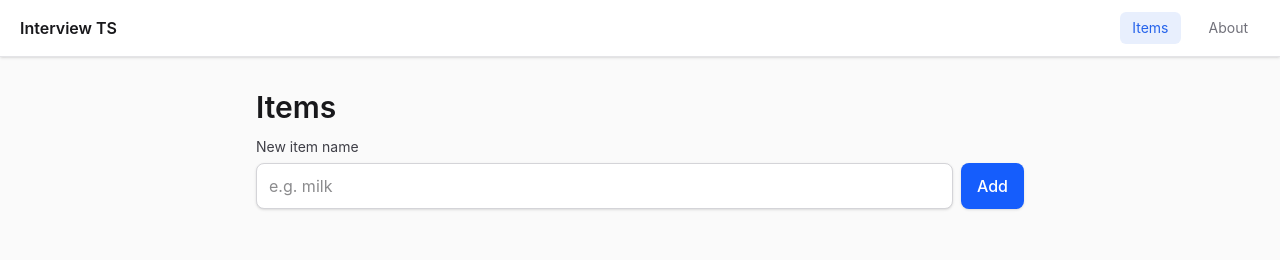
Test: <App /> › shows error on create failure
The width and height of the screenshot is (1280, 260).
Type "bread" into the field labelled "New item name".
click(604, 186); type("bread")  # box [256,163,953,209]
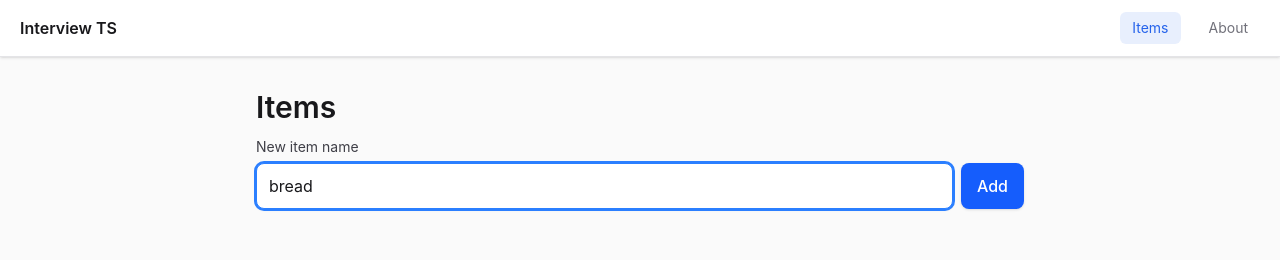
Click the button "Add".
click(992, 186)  # box [961,163,1024,209]
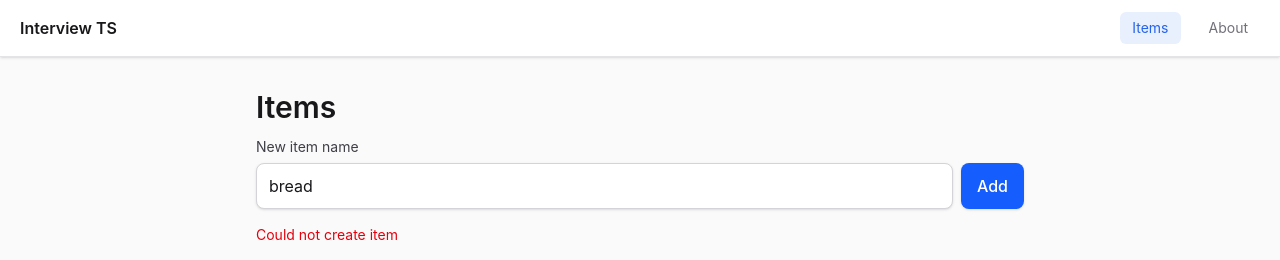
Check: the message reads "Could not create item", box [256,226,398,243]
